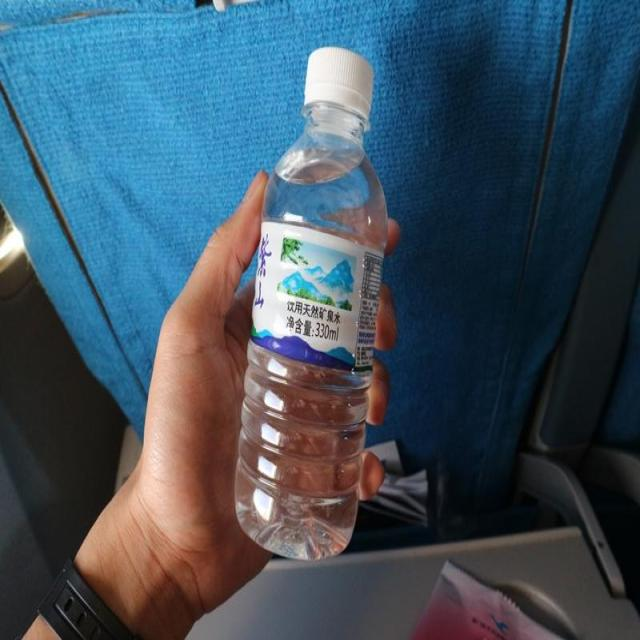bottle: (226, 34, 394, 566)
